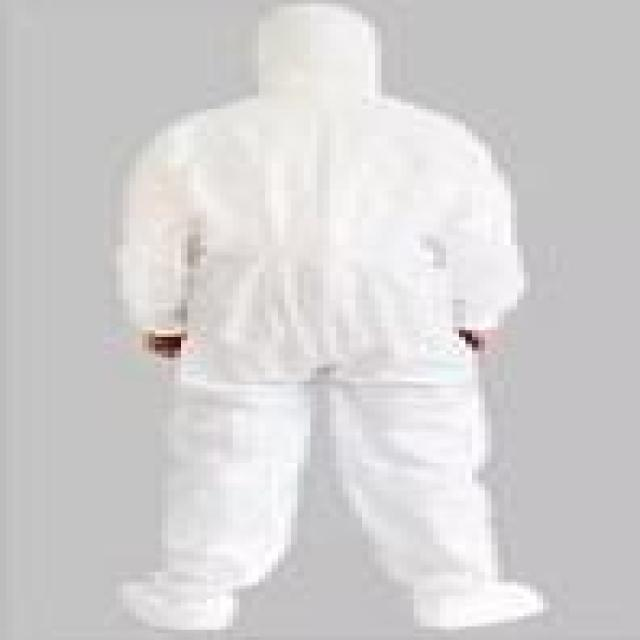Coverall: (7, 4, 614, 637)
